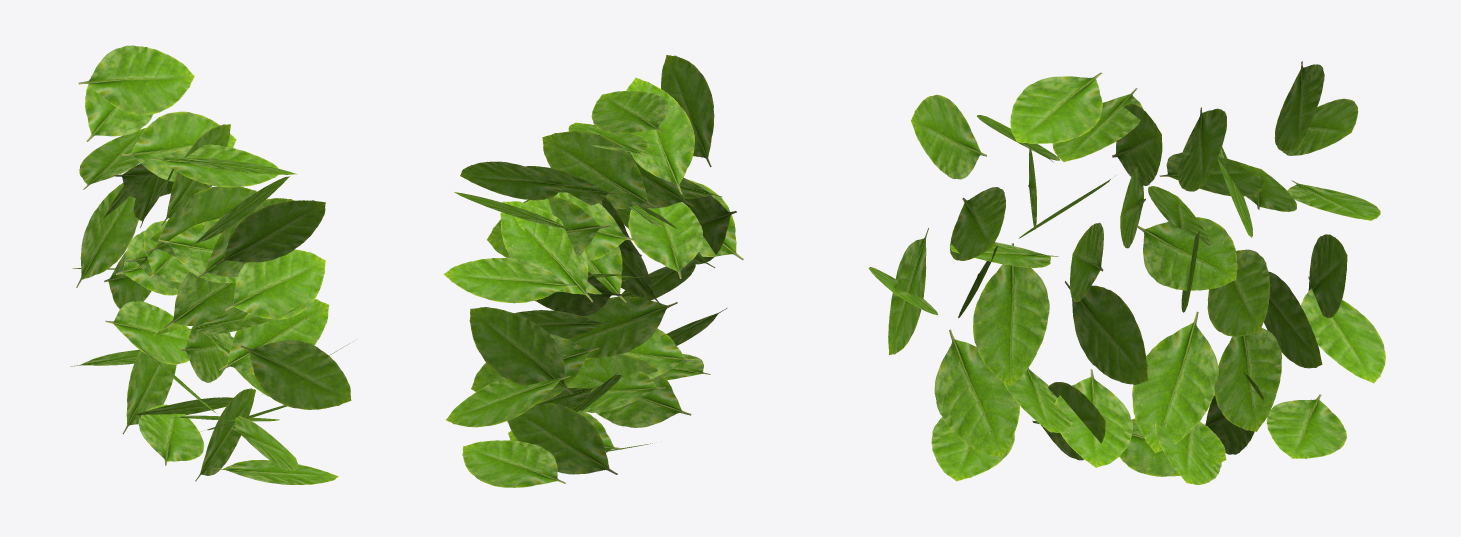
File: VegetWallLeaves_A.fbx
3 views of the same model, side by side, from view 1: azimuth 30°, elevation 25°; view 2: azimuth 150°, elevation 25°; view 3: azimuth 270°, elevation 25° (orthographic). The views are drawn at different scales.
Parts seen in each view (by area): view 1: VegetWallLeaves_A; view 2: VegetWallLeaves_A; view 3: VegetWallLeaves_A.
Boxes of the visible parts, left/top/right/bottom form: VegetWallLeaves_A: left=70, top=45, right=353, bottom=484; VegetWallLeaves_A: left=443, top=55, right=743, bottom=487; VegetWallLeaves_A: left=868, top=61, right=1385, bottom=484.
Bounding box in the file's own units: 89.68 × 75.62 × 33.09.
